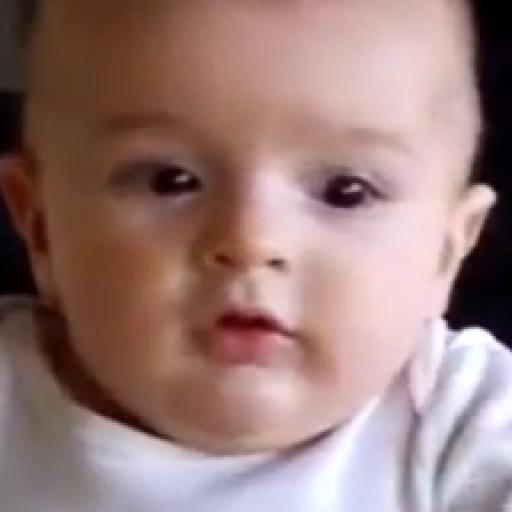Autism: (28, 3, 510, 470)
